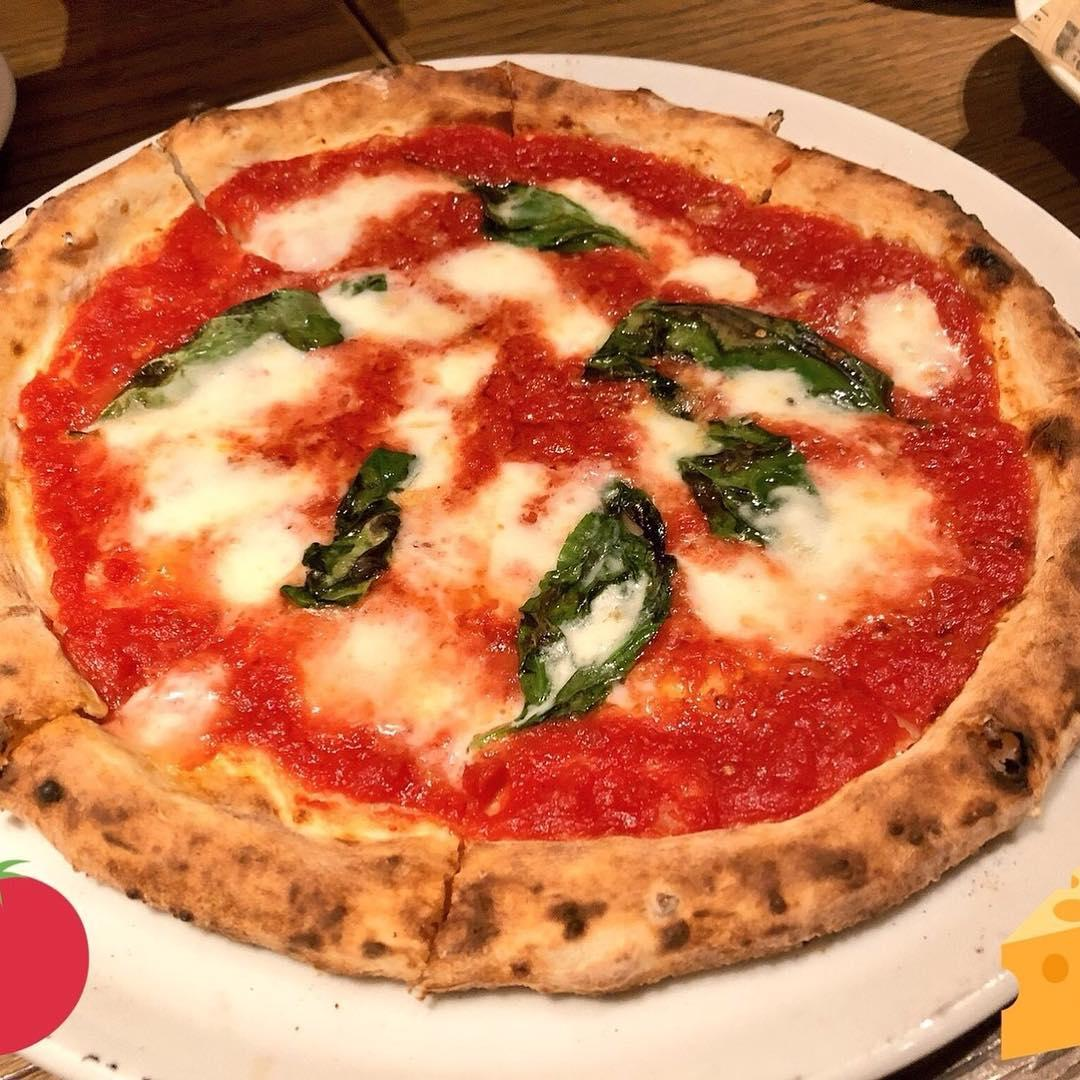Basil: (513, 483, 663, 726), (84, 288, 336, 429), (598, 298, 880, 382), (281, 448, 413, 618), (694, 414, 813, 545), (480, 178, 632, 257)
Cheese: (728, 497, 906, 625), (155, 447, 283, 601), (318, 631, 475, 746), (268, 181, 436, 260), (453, 473, 578, 574), (381, 345, 486, 462), (379, 263, 538, 340), (115, 677, 229, 762), (871, 289, 965, 385), (529, 271, 613, 368), (663, 255, 760, 302), (647, 415, 708, 485)
Pizza: (0, 75, 1080, 994)
